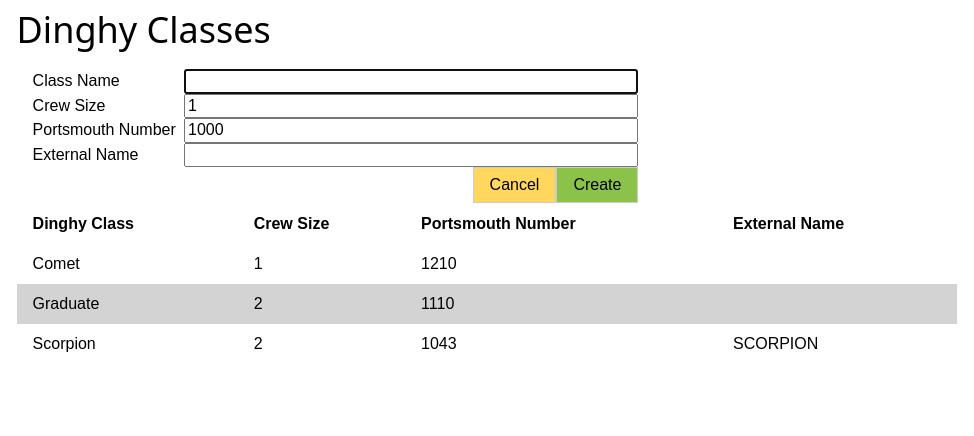
Test case: when a dinghy class is selected › clears any error message
Click the cell "Scorpion".
click(64, 343)  # box [17,324,246,364]
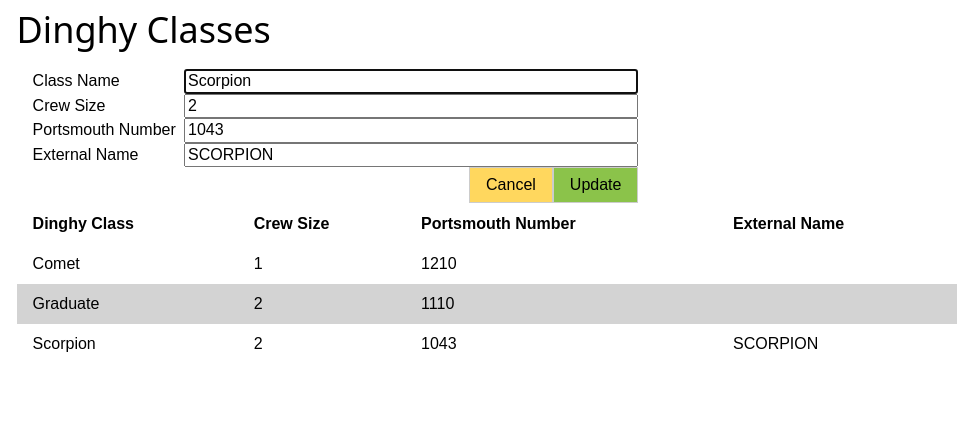
Replace the text in the field labelled "Class Name" with "Scorp Pro" at (411, 82), box [184,69,638,94]
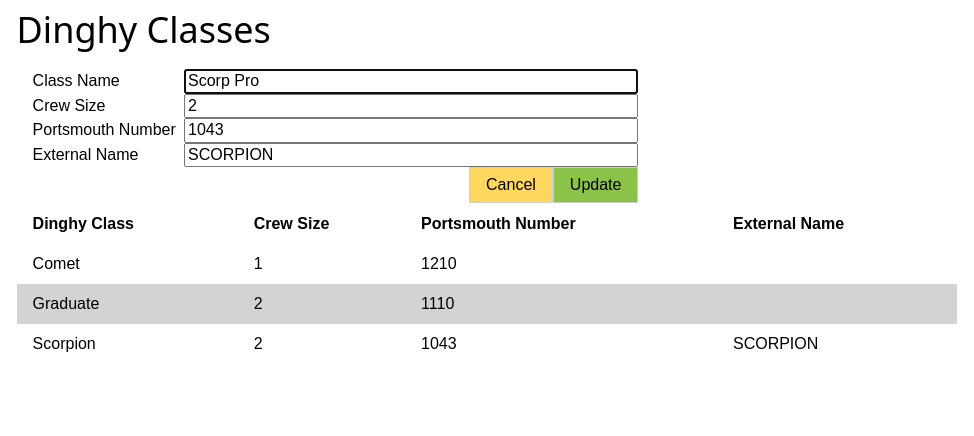
Click the button "Update".
click(596, 185)  # box [553,167,638,203]
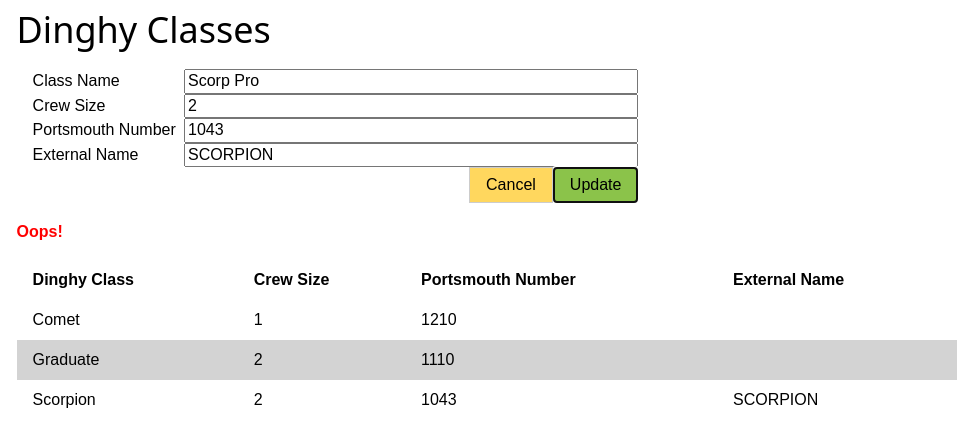
Now the text "Oops!" is shown, box [17,222,63,240]
Click the cell "Scorpion".
click(64, 399)  # box [17,380,246,420]
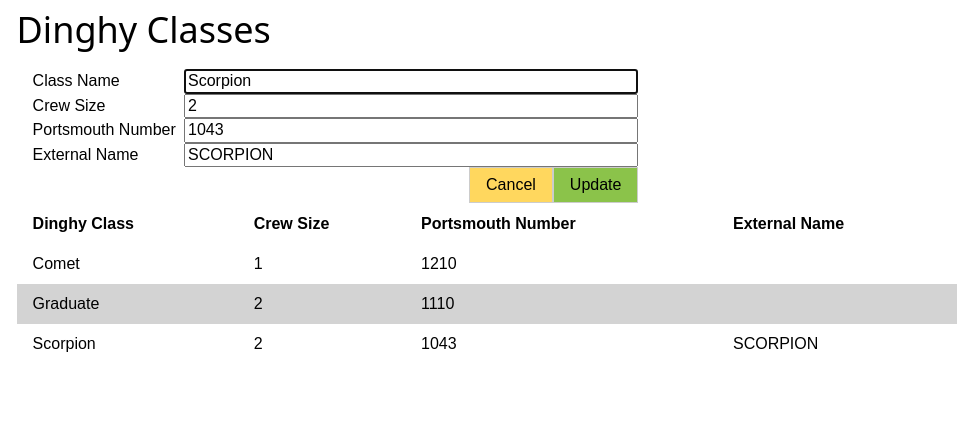
Now the text "Oops" is gone
